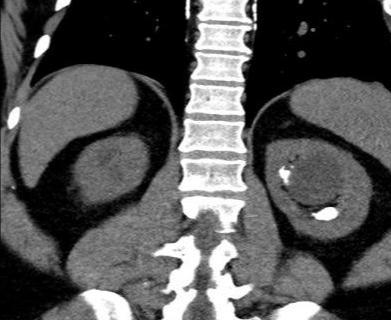Tas_Var: (314, 204, 340, 222), (276, 164, 291, 185), (309, 212, 314, 217), (289, 164, 294, 169)
